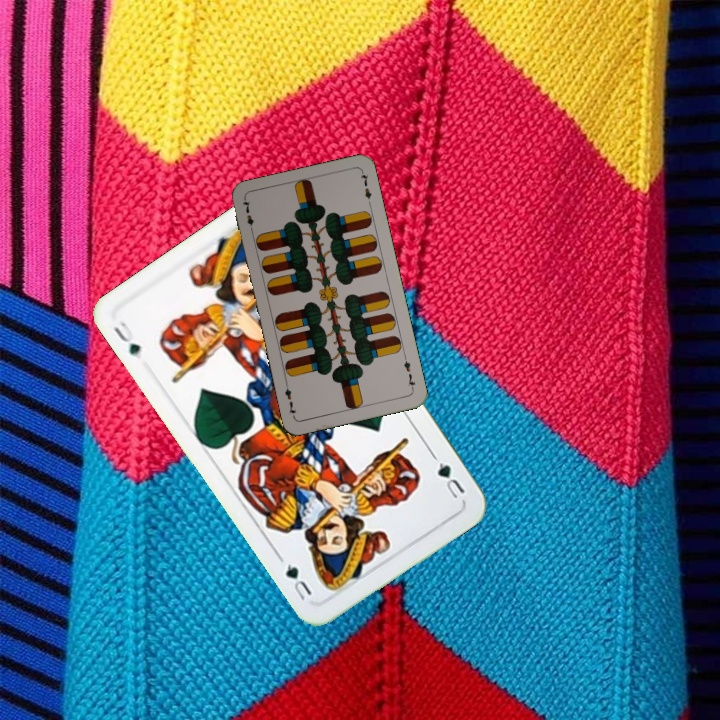E7: (399, 352, 418, 392), (239, 196, 257, 236)
GU: (428, 450, 468, 504), (109, 315, 143, 358)
